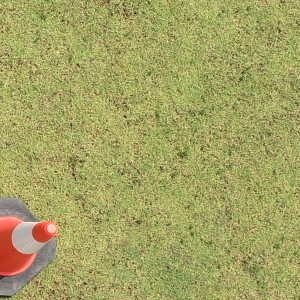traffic cone: (1, 197, 56, 296)
